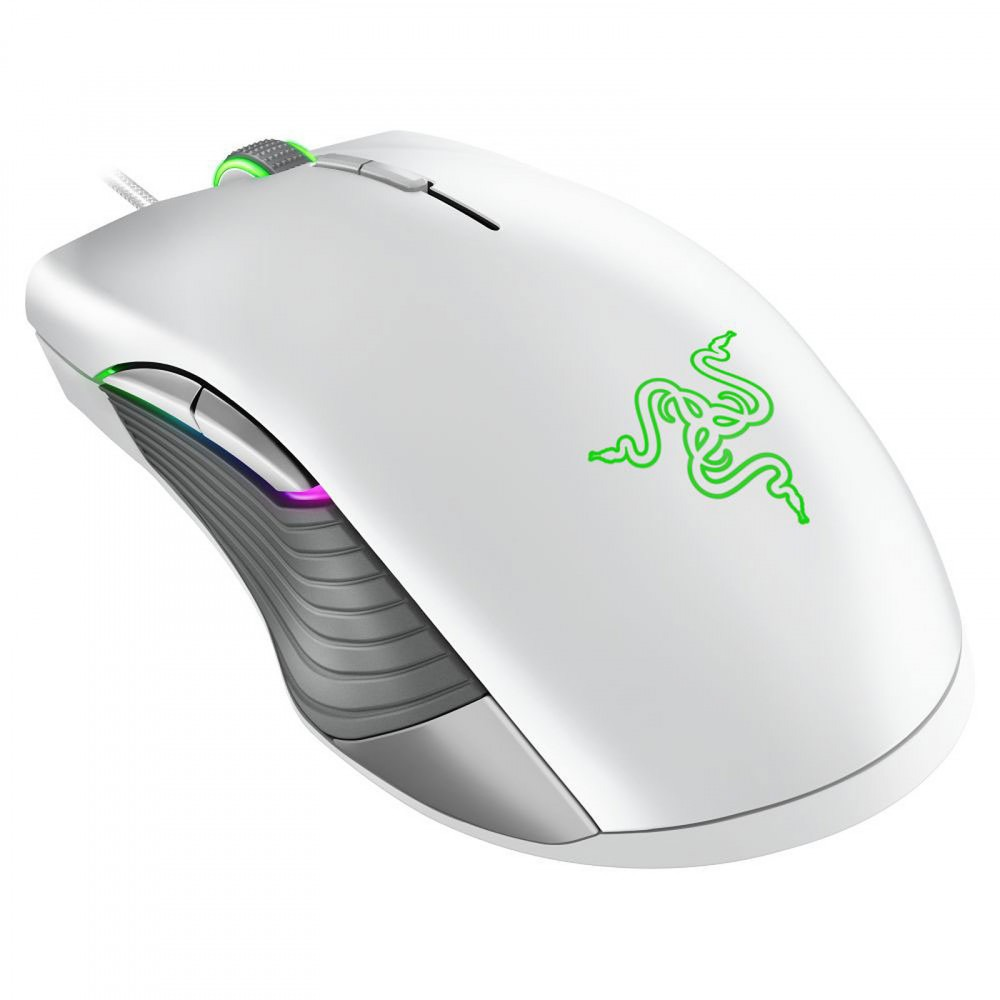mouse: (29, 112, 974, 878)
